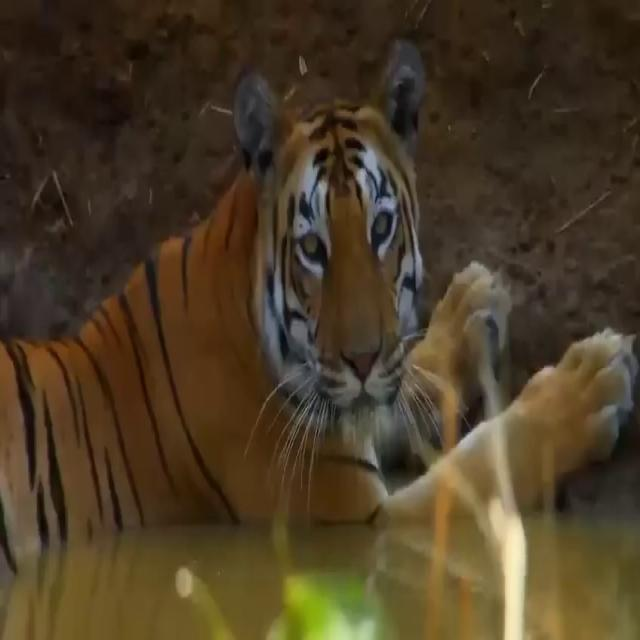tiger: (0, 37, 640, 528)
